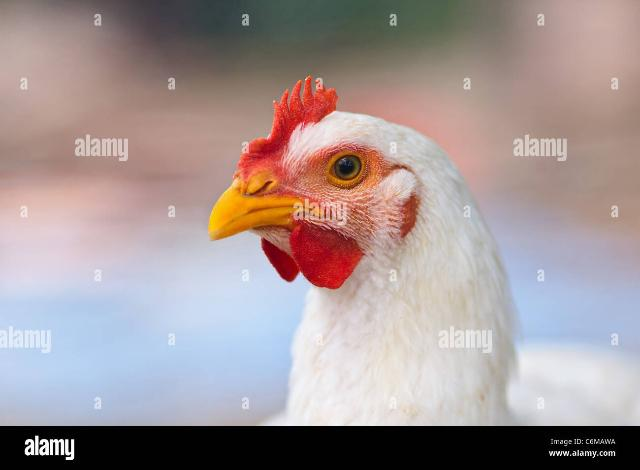Chicken: (208, 76, 518, 428)
